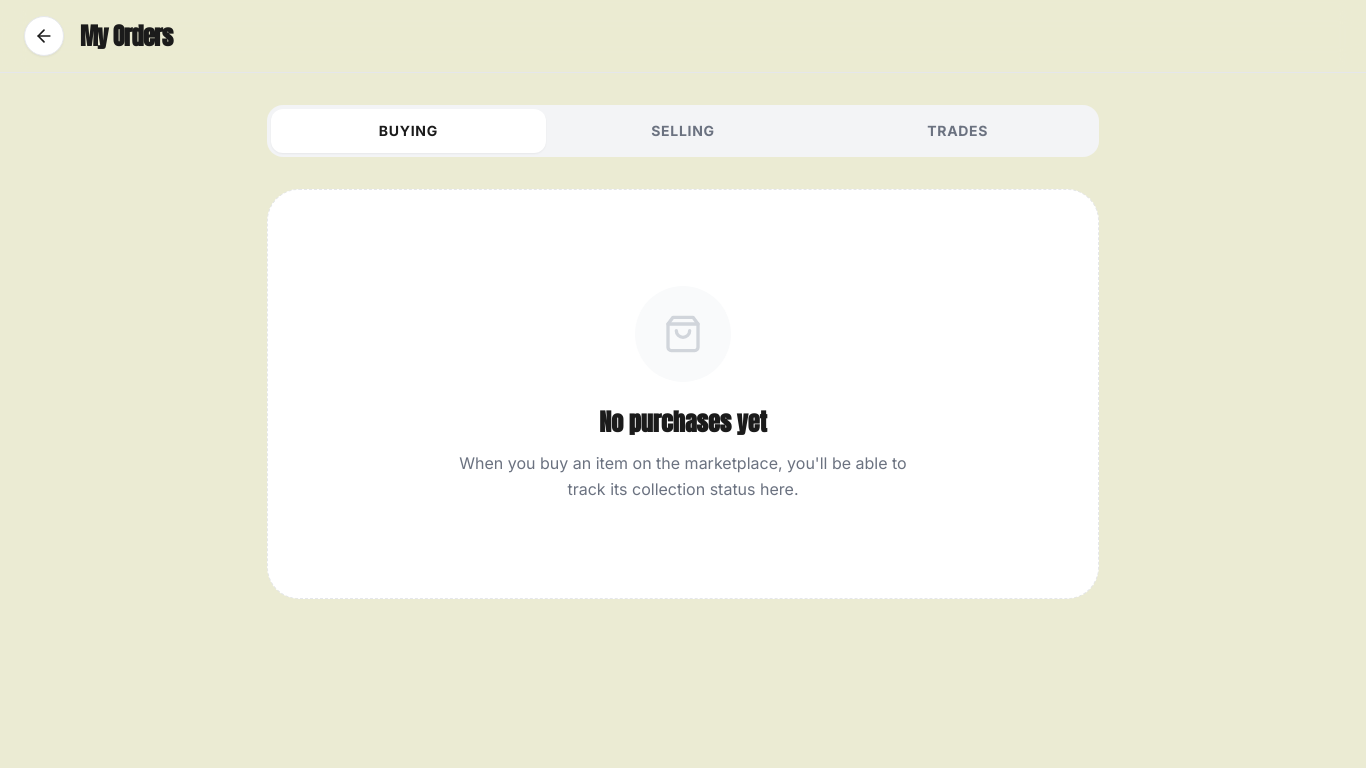
Scenario: MyOrders › Trades tab › does not show trade when only one booking is collected
Click the tab "Trades". click: (958, 131)
box: [820,109,1095,153]
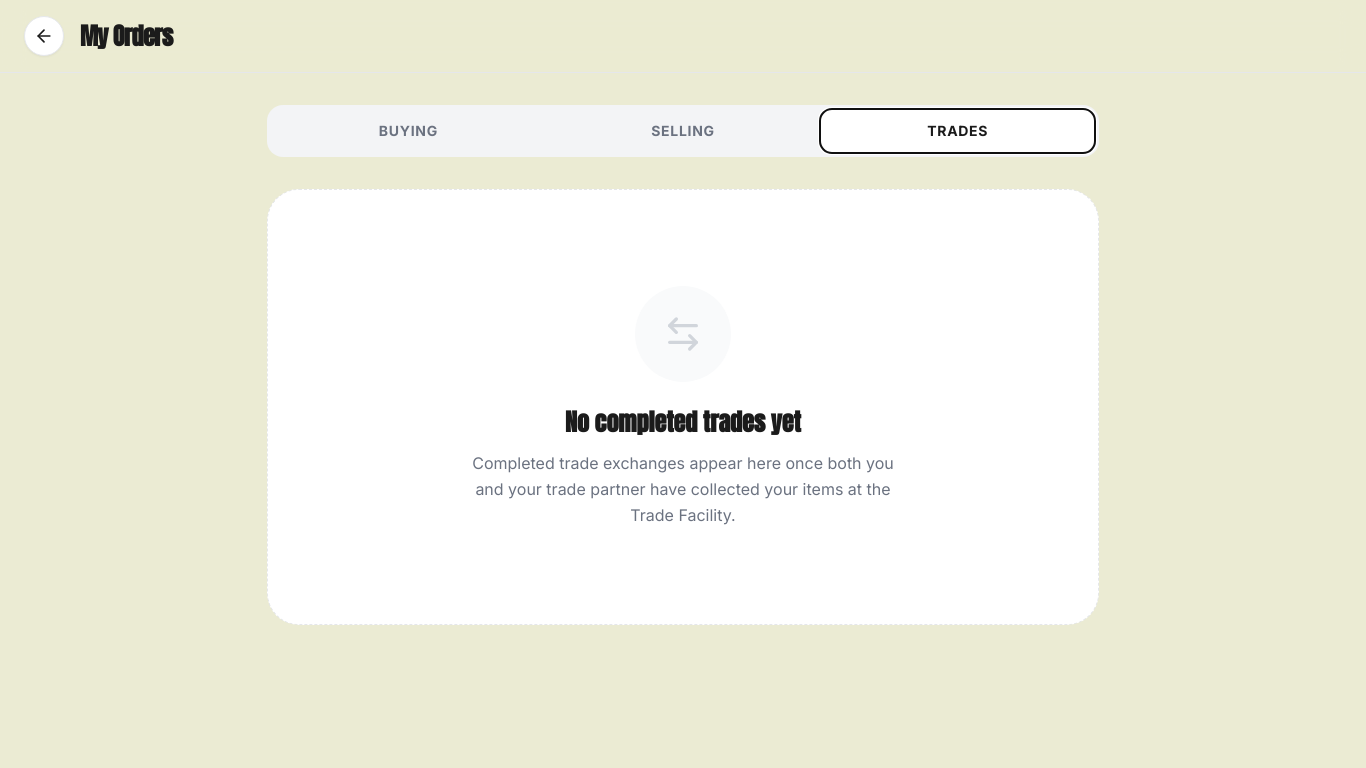
Expected: the heading "No completed trades yet" is shown, [565,406,801,438]
